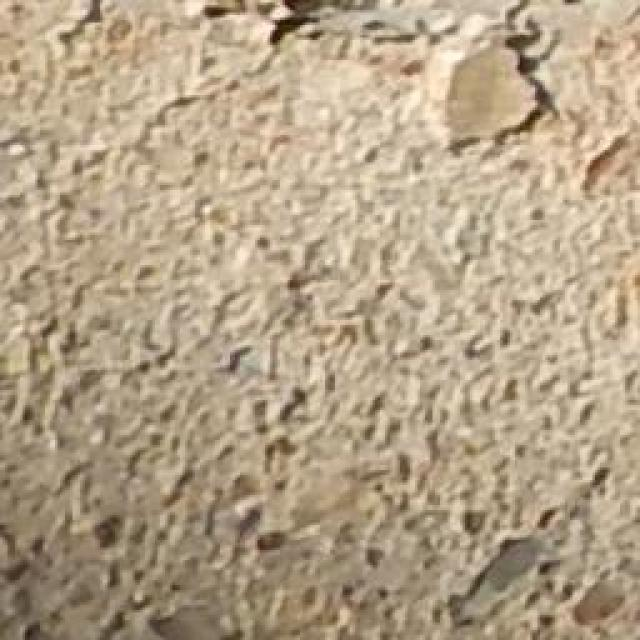concrete-crack: (445, 2, 562, 159), (265, 1, 338, 58)
